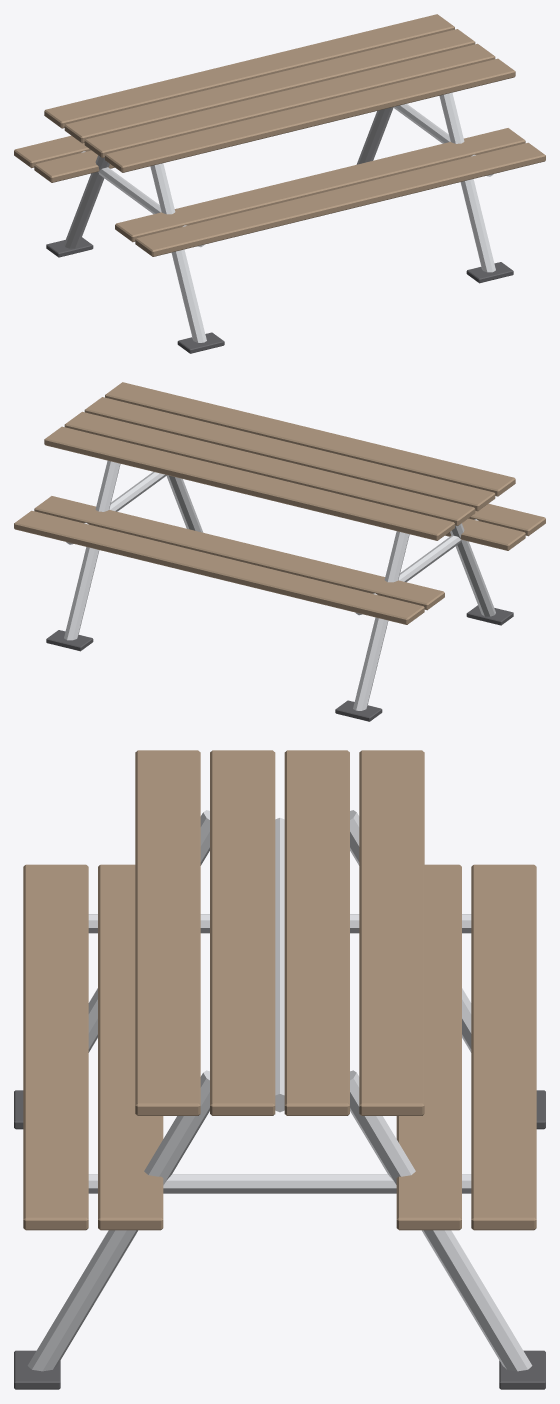
The model's file is fast-food-and-drive-thru-outdoor-picnic-bench-e5e70167__16204.glb.
3 views of the same model, one above another, from view 1: azimuth 30°, elevation 25°; view 2: azimuth 150°, elevation 25°; view 3: azimuth 270°, elevation 25° (orthographic). The views are drawn at different scales.
Parts seen in each view (by area): view 1: outdoor-picnic-bench; view 2: outdoor-picnic-bench; view 3: outdoor-picnic-bench.
Part boxes in pixels (x1,y1,x2,y2): outdoor-picnic-bench: [14, 14, 545, 353]; outdoor-picnic-bench: [14, 382, 545, 721]; outdoor-picnic-bench: [14, 750, 545, 1389].
Bounding box in the file's own units: 1.8 × 0.7634 × 1.14.
